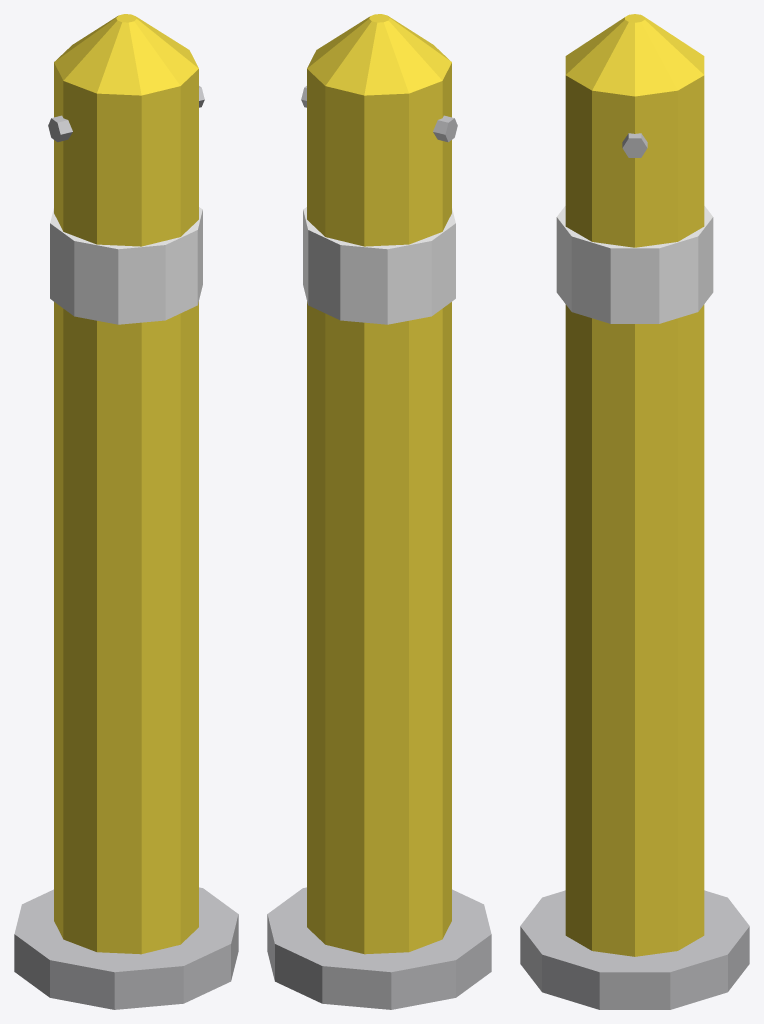
The model's file is bollard_removable.glb.
3 renders of one model, left to right at view 1: azimuth 30°, elevation 25°; view 2: azimuth 150°, elevation 25°; view 3: azimuth 270°, elevation 25°, orthographic.
Parts seen in each view (by area): view 1: bollard_removable; view 2: bollard_removable; view 3: bollard_removable.
Part boxes in pixels (<box>): bollard_removable: <box>14,14,238,1009</box>; bollard_removable: <box>267,14,491,1009</box>; bollard_removable: <box>520,14,749,1009</box>.
Size of the model in its own units: 0.2092 by 1 by 0.22.
